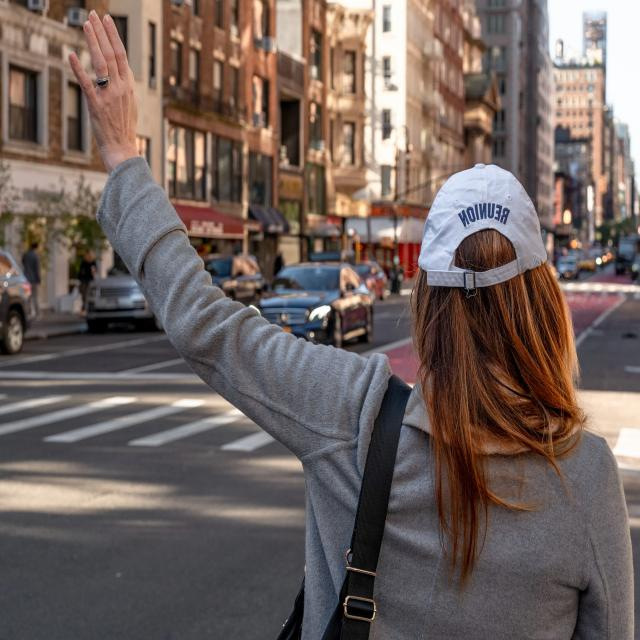adult: (66, 7, 628, 640)
